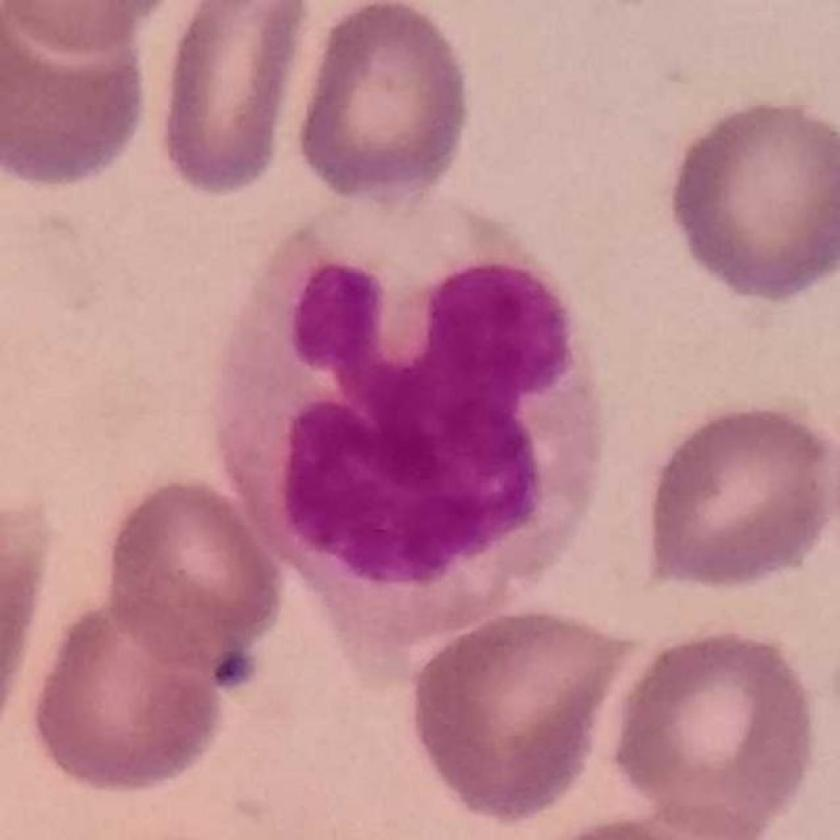monocyte: (214, 182, 606, 678)
